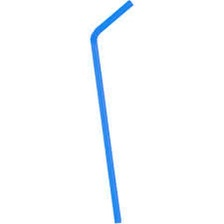drinking_straw: (83, 0, 139, 224)
